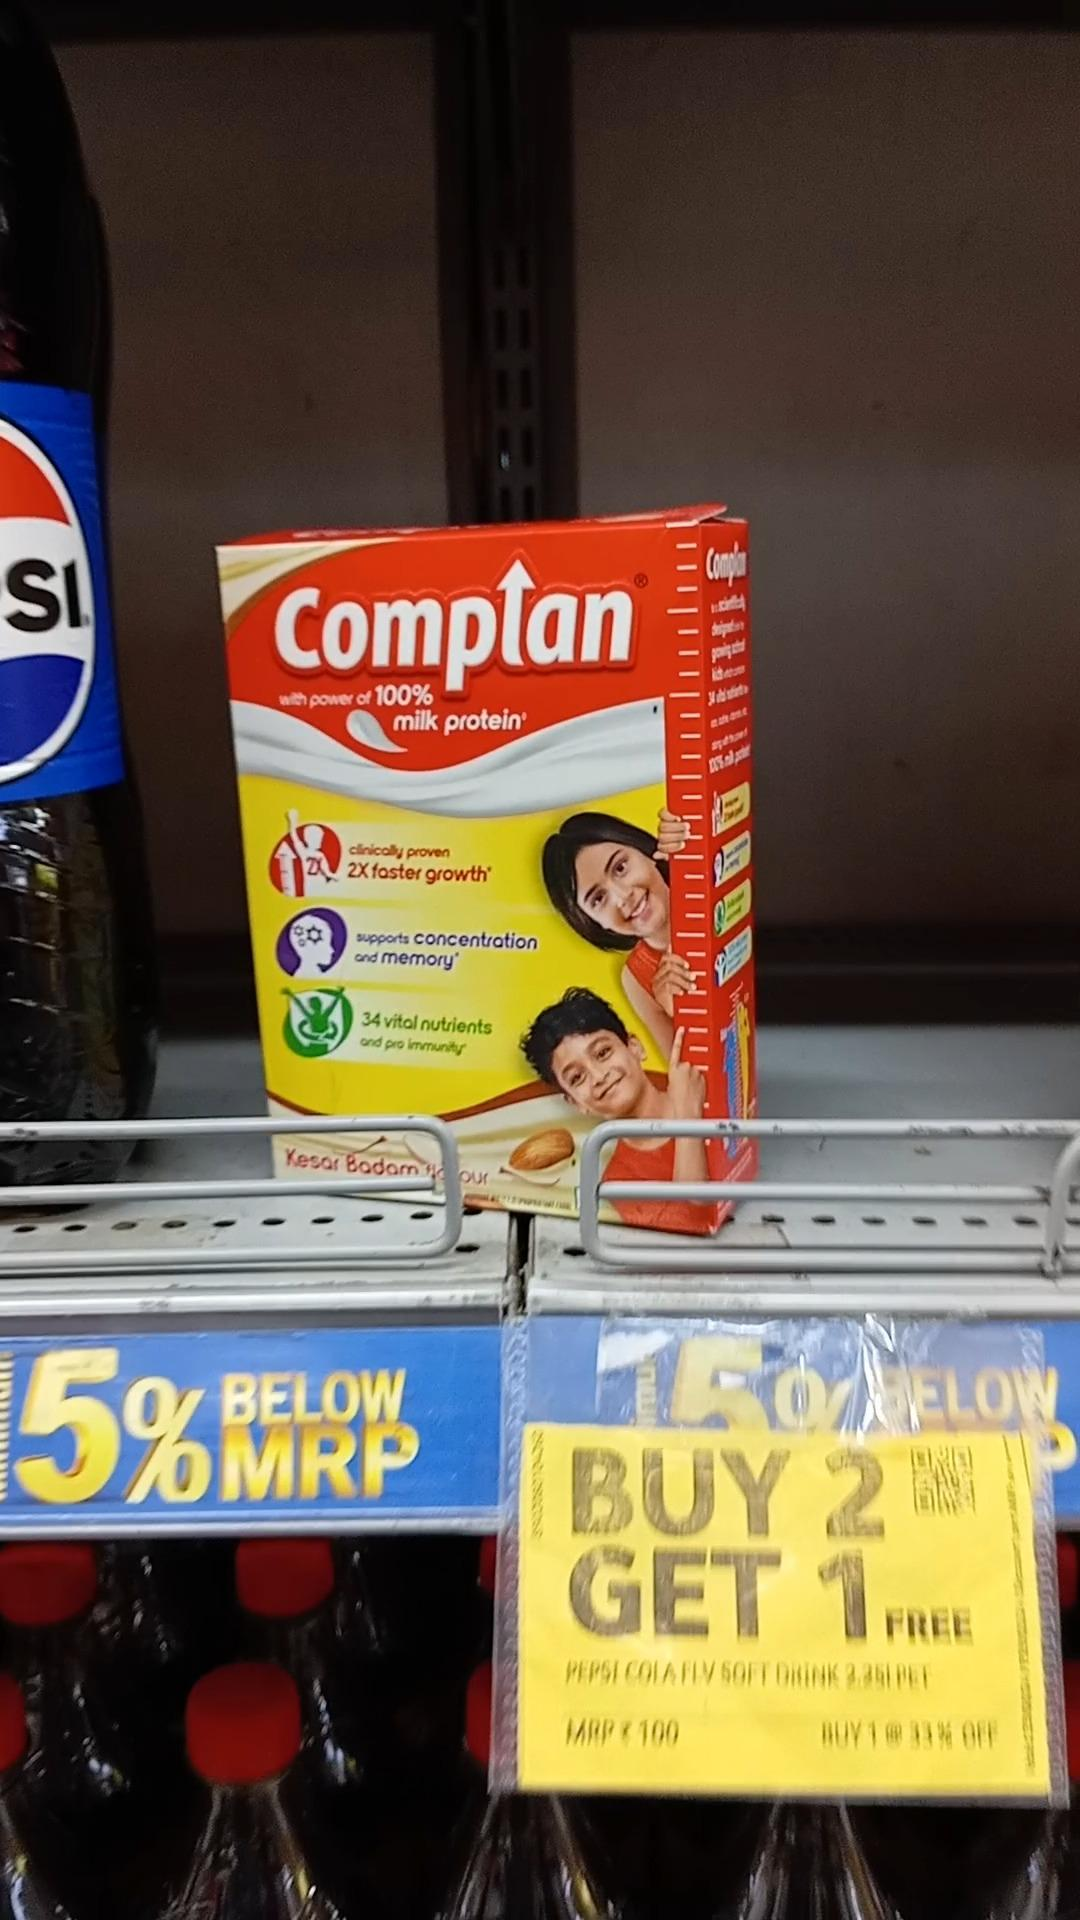COMPLAN_CHOCOLATE_200_GMS_JAR: (241, 543, 705, 1221)
